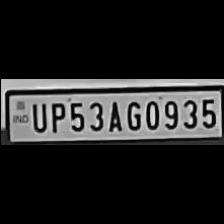0: (142, 97, 160, 129)
3: (84, 98, 104, 132), (179, 96, 197, 128)
5: (65, 98, 84, 132), (198, 95, 216, 129)
9: (160, 97, 178, 129)
A: (104, 98, 122, 132)
G: (122, 97, 142, 130)
P: (46, 99, 64, 133)
U: (27, 100, 47, 132)
